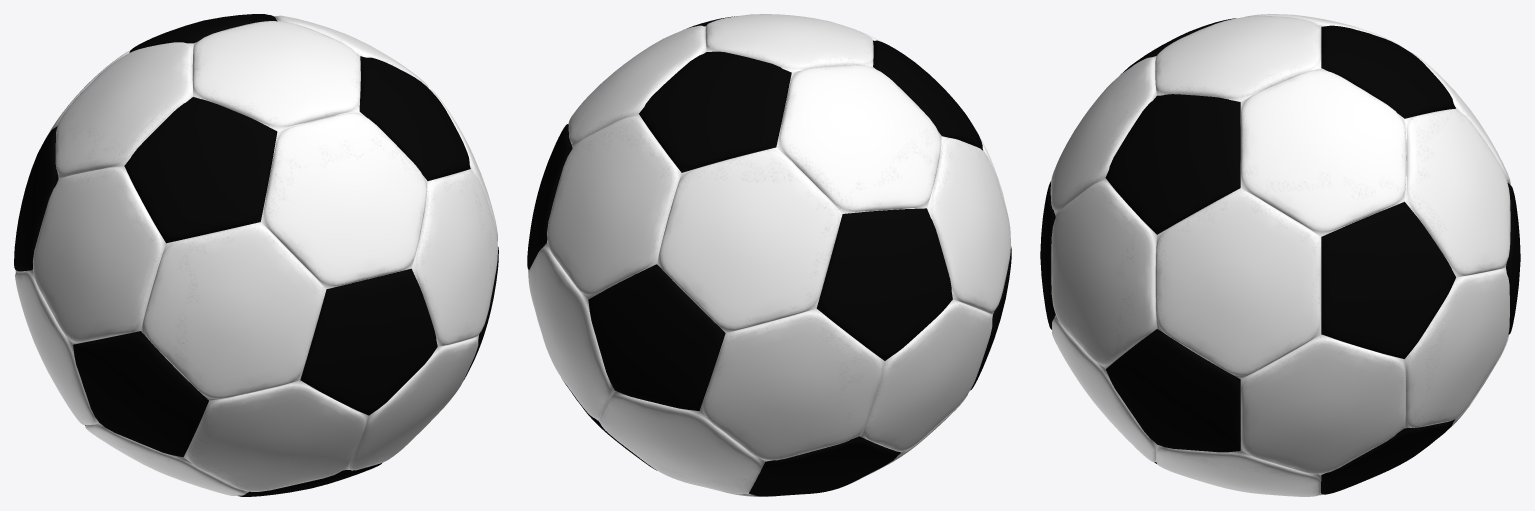
File: football-soccer-ball.fbx
3 views of the same model, side by side, from view 1: azimuth 30°, elevation 25°; view 2: azimuth 150°, elevation 25°; view 3: azimuth 270°, elevation 25° (orthographic).
Visible parts, largest first — view 1: Football; view 2: Football; view 3: Football.
Part boxes in pixels (box(x1,y1,x2,y2)): Football: box(14, 14, 498, 496); Football: box(527, 14, 1011, 496); Football: box(1040, 14, 1520, 496).
Bounding box in the file's own units: 129 × 128 × 128.
Materials: 1 (1 with a texture image).
